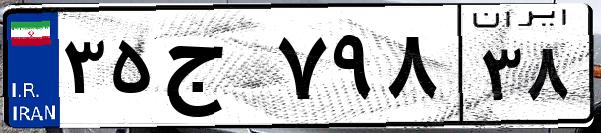3: (57, 26, 110, 100), (475, 38, 525, 113)
5: (110, 28, 158, 98)
7: (270, 28, 330, 110)
8: (385, 28, 445, 110), (525, 38, 570, 115)
9: (330, 28, 385, 110)
ج: (158, 20, 270, 120)
